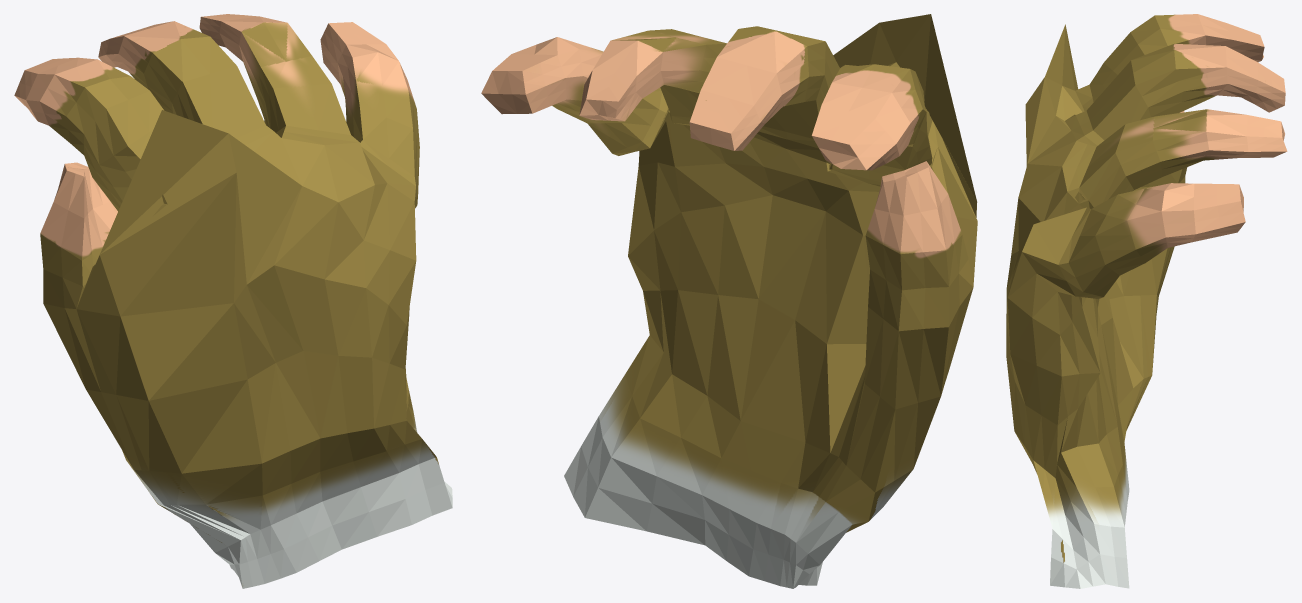
File: grip0041.obj
The picture shows the model from 3 angles, left to right: view 1: azimuth 30°, elevation 25°; view 2: azimuth 150°, elevation 25°; view 3: azimuth 270°, elevation 25°; orthographic projection. The views are drawn at different scales.
Parts seen in each view (by area): view 1: Hand; view 2: Hand; view 3: Hand.
Part boxes in pixels (x1,y1,x2,y2): Hand: [14, 14, 452, 588]; Hand: [481, 14, 977, 588]; Hand: [1006, 14, 1287, 588].
Size of the model in its own units: 2.85 by 3.81 by 2.
